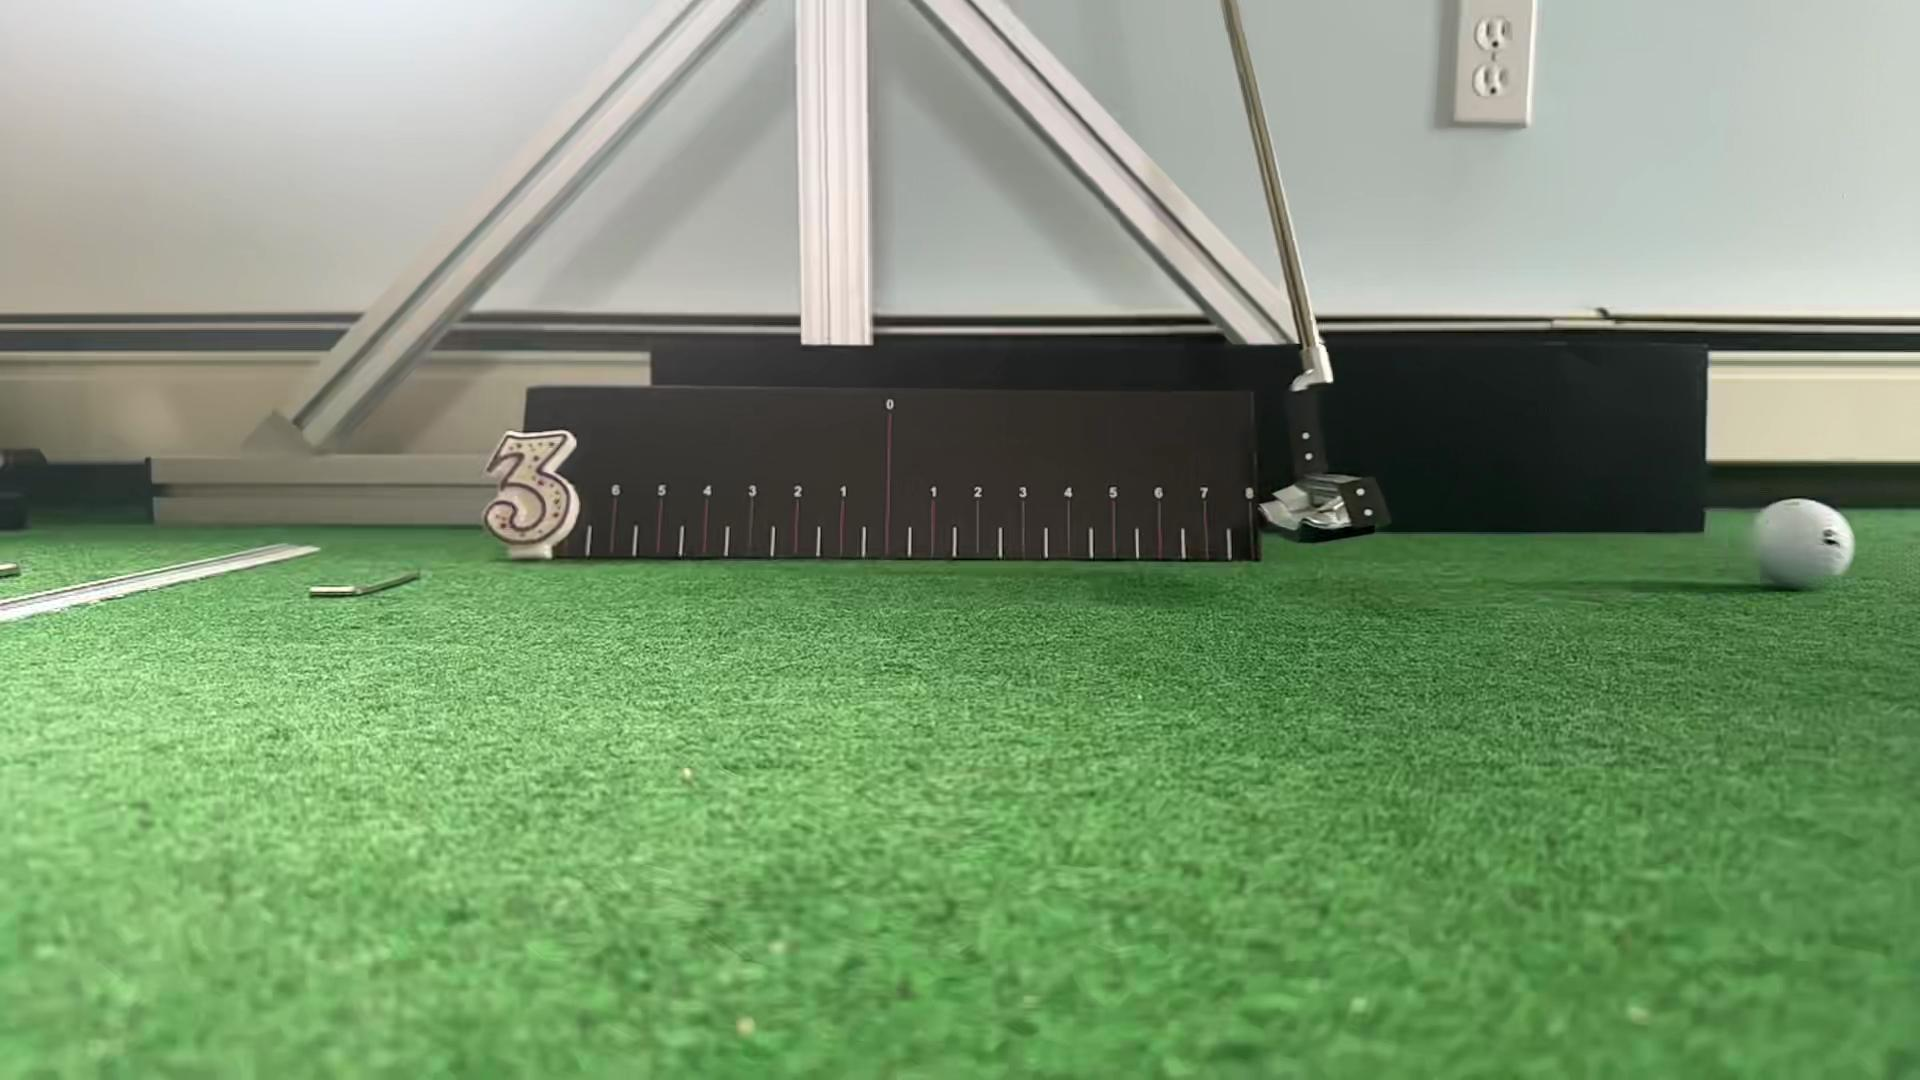golfball: (1753, 498, 1854, 591)
